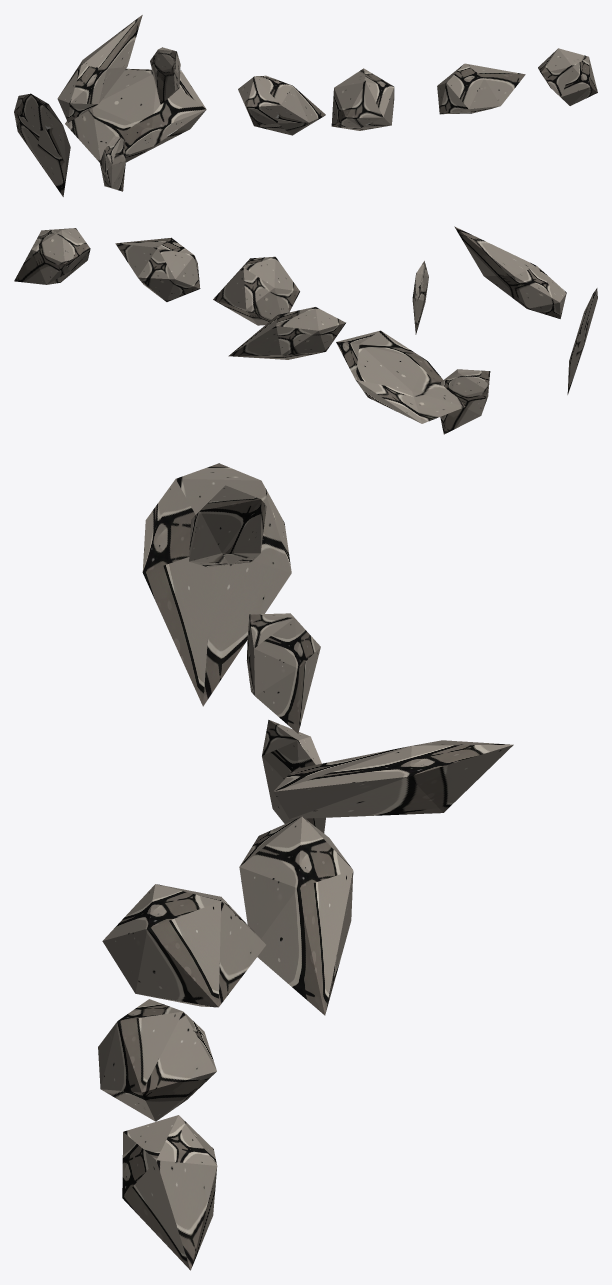
The model's file is Stones.fbx.
3 renders of one model, top to bottom at view 1: azimuth 30°, elevation 25°; view 2: azimuth 150°, elevation 25°; view 3: azimuth 270°, elevation 25°, orthographic. The views are drawn at different scales.
Visible parts, largest first — view 1: Icosphere.004, Icosphere.007, Icosphere.003, Icosphere.006, Icosphere, Icosphere.001, Icosphere.002, Icosphere.008, Icosphere.005; view 2: Icosphere.004, Icosphere.007, Icosphere.003, Icosphere.001, Icosphere, Icosphere.002, Icosphere.005, Icosphere.006, Icosphere.008; view 3: Icosphere.006, Icosphere.003, Icosphere.001, Icosphere.004, Icosphere.002, Icosphere, Icosphere.008, Icosphere.007, Icosphere.005.
Boxes of the visible parts, x1=… form: Icosphere.004: x1=65, y1=68, x2=206, y2=162; Icosphere.007: x1=57, y1=15, x2=142, y2=122; Icosphere.003: x1=238, y1=75, x2=325, y2=135; Icosphere.006: x1=14, y1=93, x2=70, y2=196; Icosphere: x1=437, y1=63, x2=525, y2=114; Icosphere.001: x1=331, y1=68, x2=394, y2=130; Icosphere.002: x1=538, y1=48, x2=597, y2=105; Icosphere.008: x1=150, y1=47, x2=180, y2=104; Icosphere.005: x1=100, y1=136, x2=126, y2=191; Icosphere.004: x1=336, y1=330, x2=465, y2=423; Icosphere.007: x1=454, y1=226, x2=566, y2=318; Icosphere.003: x1=228, y1=307, x2=345, y2=359; Icosphere.001: x1=213, y1=256, x2=299, y2=325; Icosphere: x1=115, y1=237, x2=200, y2=301; Icosphere.002: x1=14, y1=228, x2=90, y2=284; Icosphere.005: x1=440, y1=369, x2=490, y2=434; Icosphere.006: x1=567, y1=288, x2=597, y2=394; Icosphere.008: x1=412, y1=261, x2=428, y2=334; Icosphere.006: x1=142, y1=463, x2=291, y2=706; Icosphere.003: x1=239, y1=816, x2=353, y2=1015; Icosphere.001: x1=102, y1=884, x2=265, y2=1007; Icosphere.004: x1=273, y1=740, x2=513, y2=819; Icosphere.002: x1=122, y1=1115, x2=217, y2=1270; Icosphere: x1=98, y1=999, x2=216, y2=1121; Icosphere.008: x1=246, y1=613, x2=320, y2=733; Icosphere.007: x1=189, y1=485, x2=266, y2=566; Icosphere.005: x1=262, y1=720, x2=325, y2=833.
Size of the model in its own units: 5996 by 1906 by 1922.
